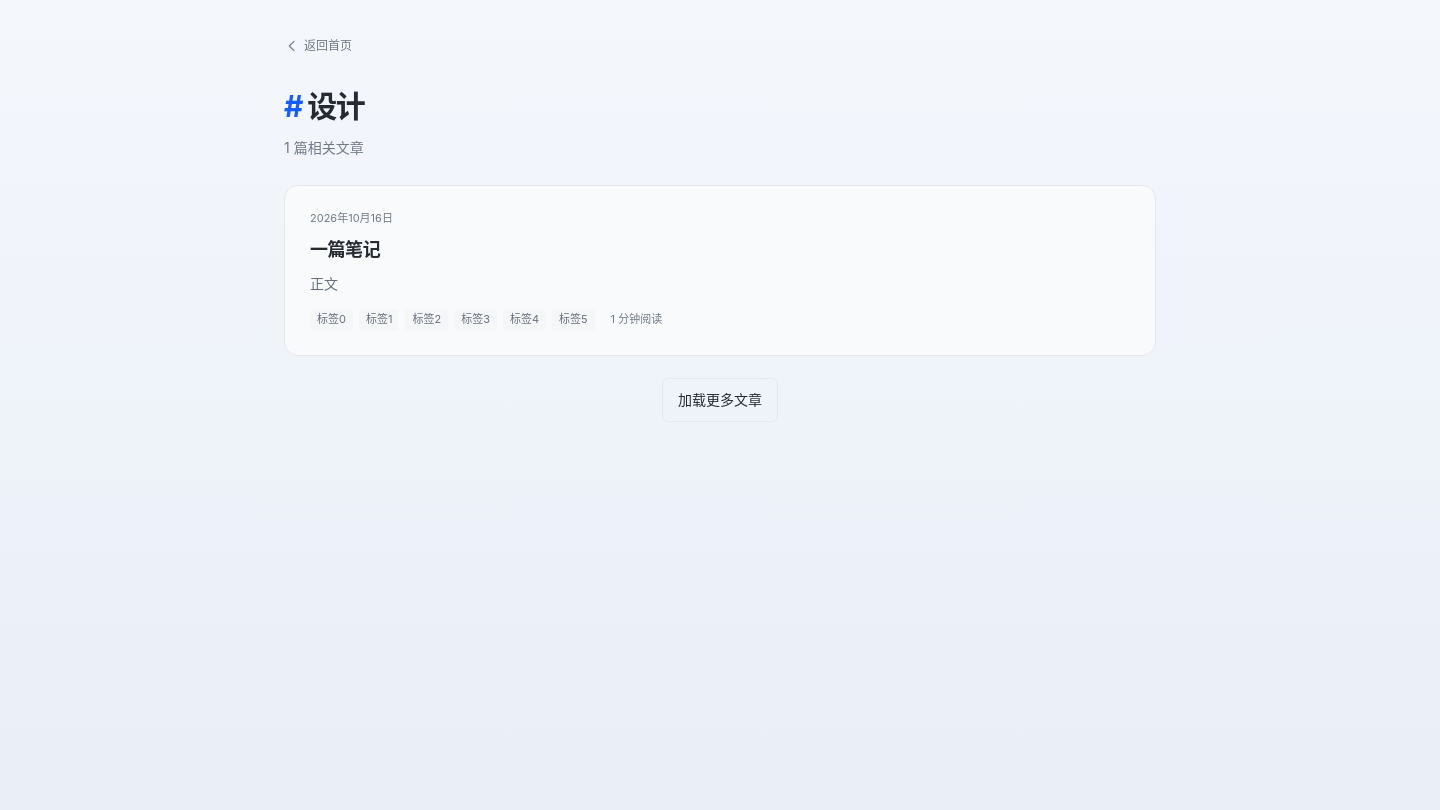
public reading pages › retains every tag link in shared tag results and appends older articles
This screenshot has width=1440, height=810.
Click the button "加载更多文章" at {"x": 720, "y": 400}, box [662,378,778,422]
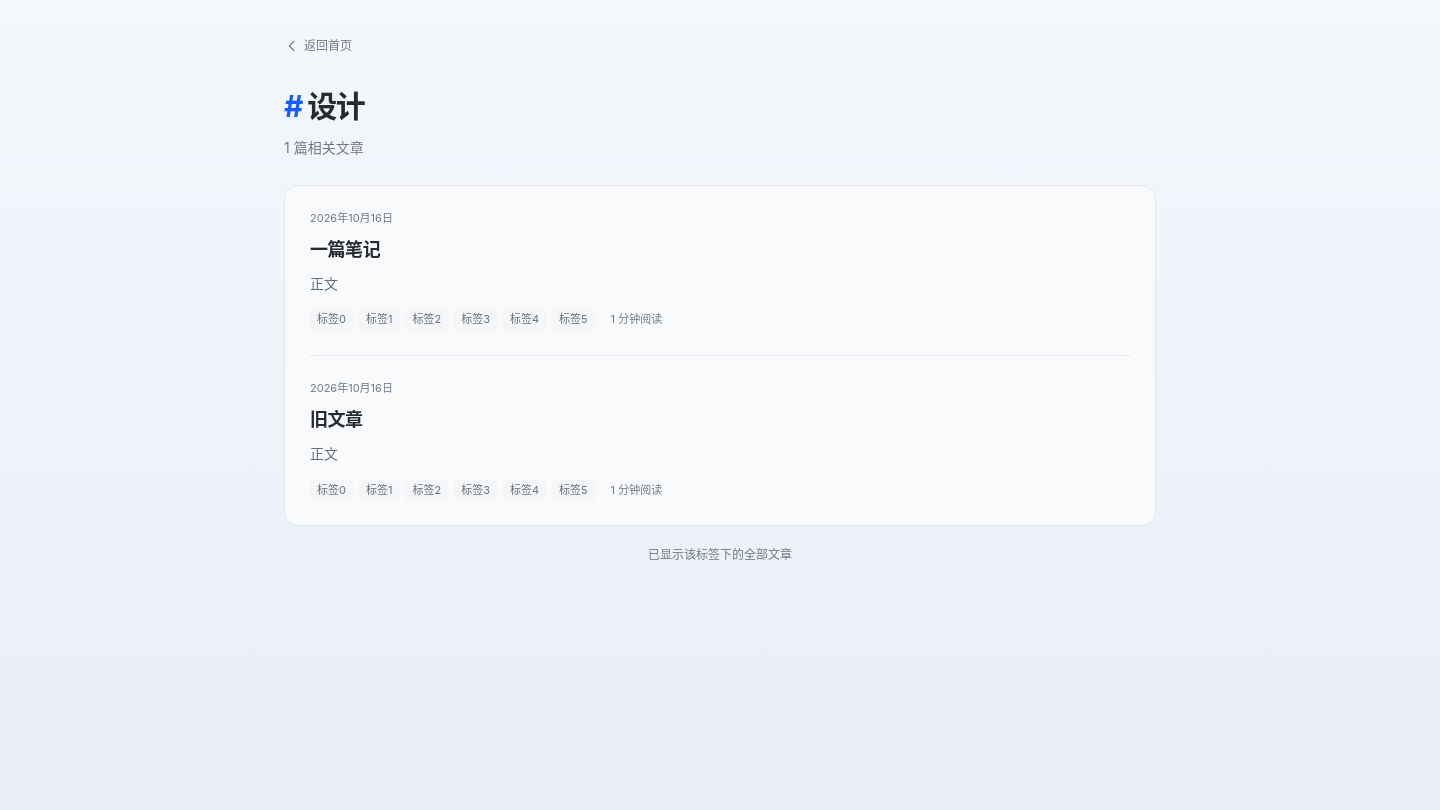
Check: the number of elements with class "article-row" is 2, box [310,211,662,331]; [310,355,1130,525]
